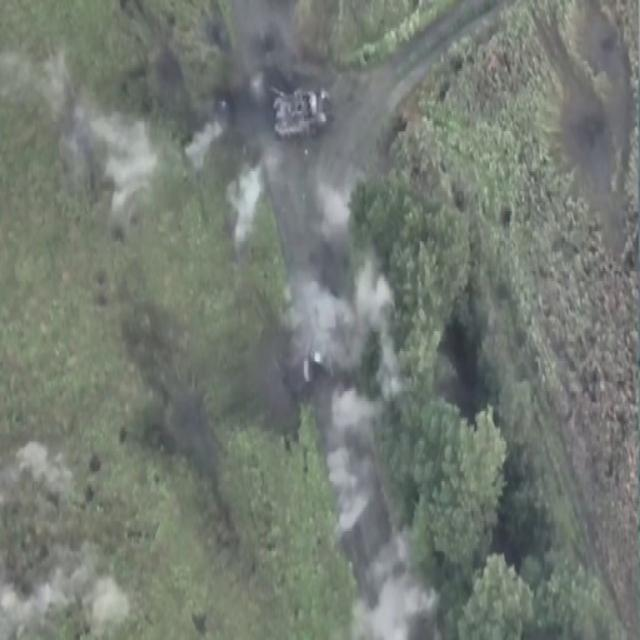TANK: (261, 74, 331, 142)
